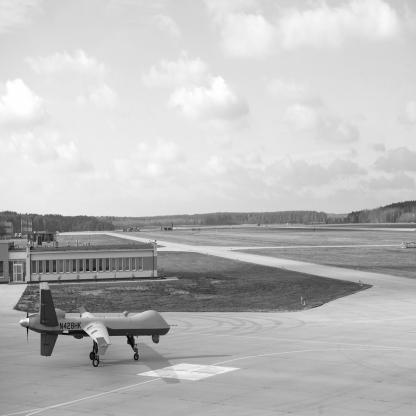MQ9: (20, 284, 180, 368)
